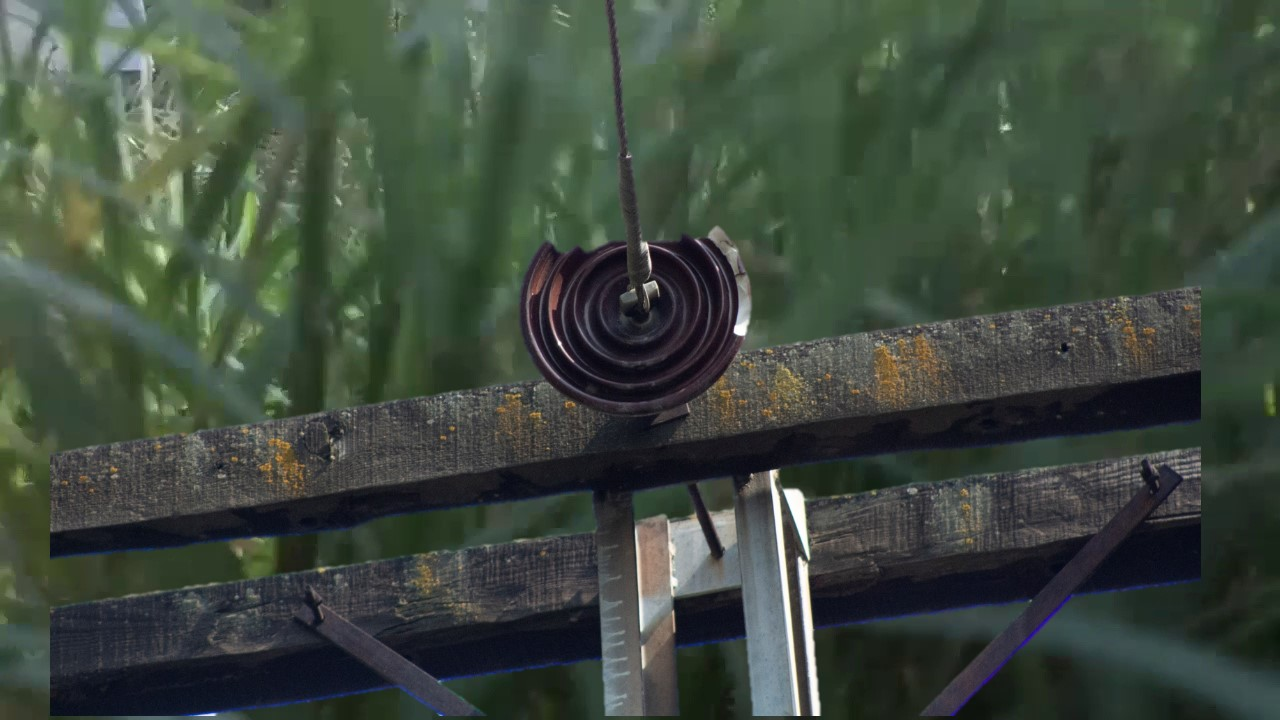defect_disc: (518, 220, 757, 428)
